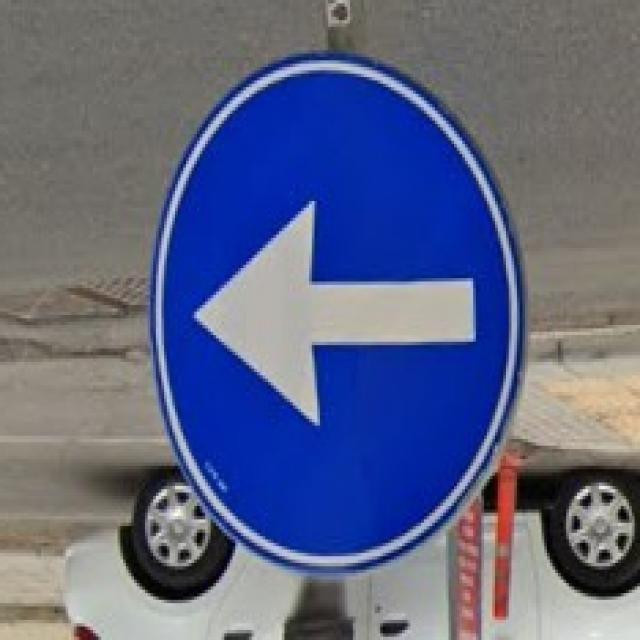Turn Left: (142, 60, 522, 569)
